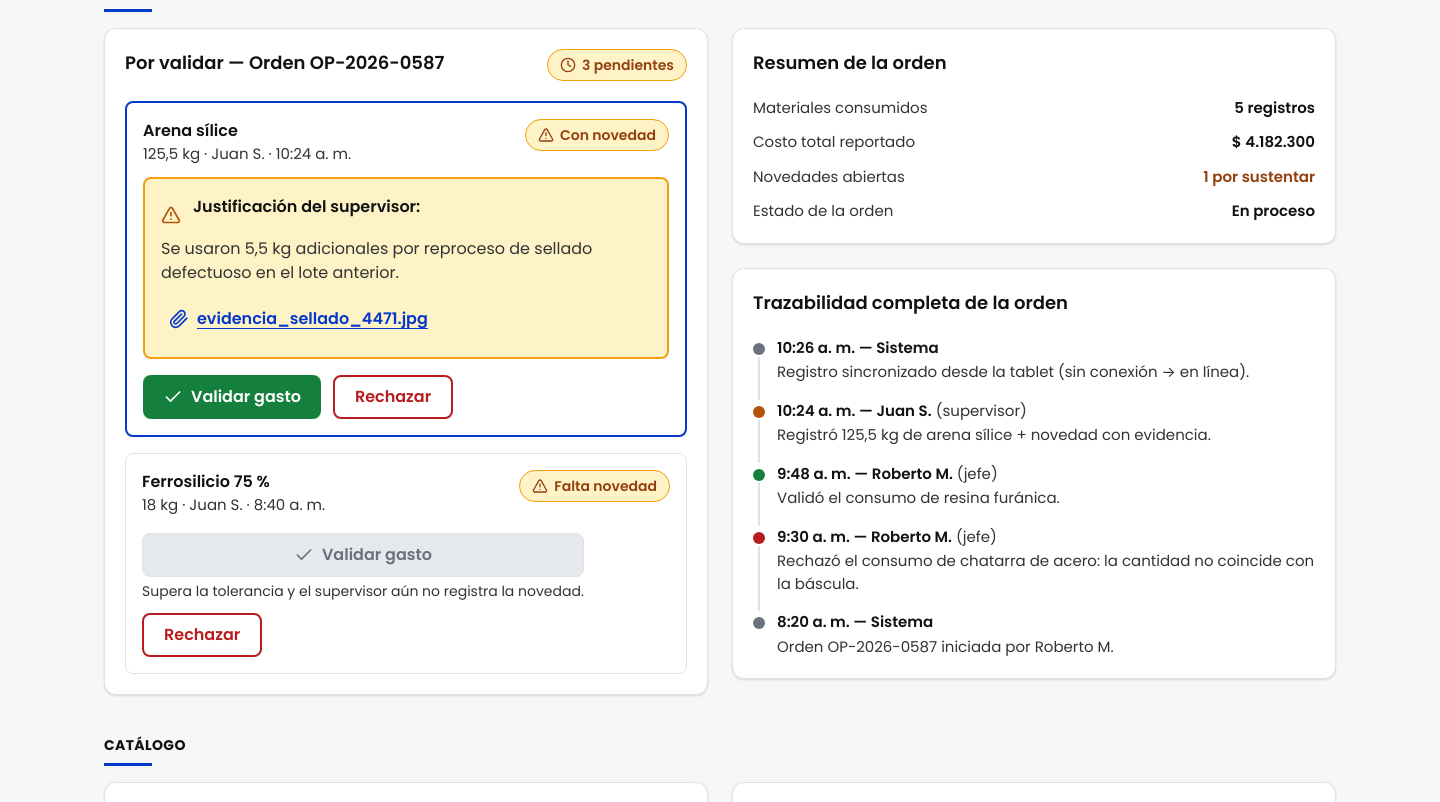
Scenario: Página /diseno › rechazar exige motivo y muestra un toast al confirmar
The width and height of the screenshot is (1440, 802).
(page scrolled)
Click the button "Rechazar" below "125,5 kg · Juan S. · 10:24 a. m." at (393, 397), box [333,375,453,419]
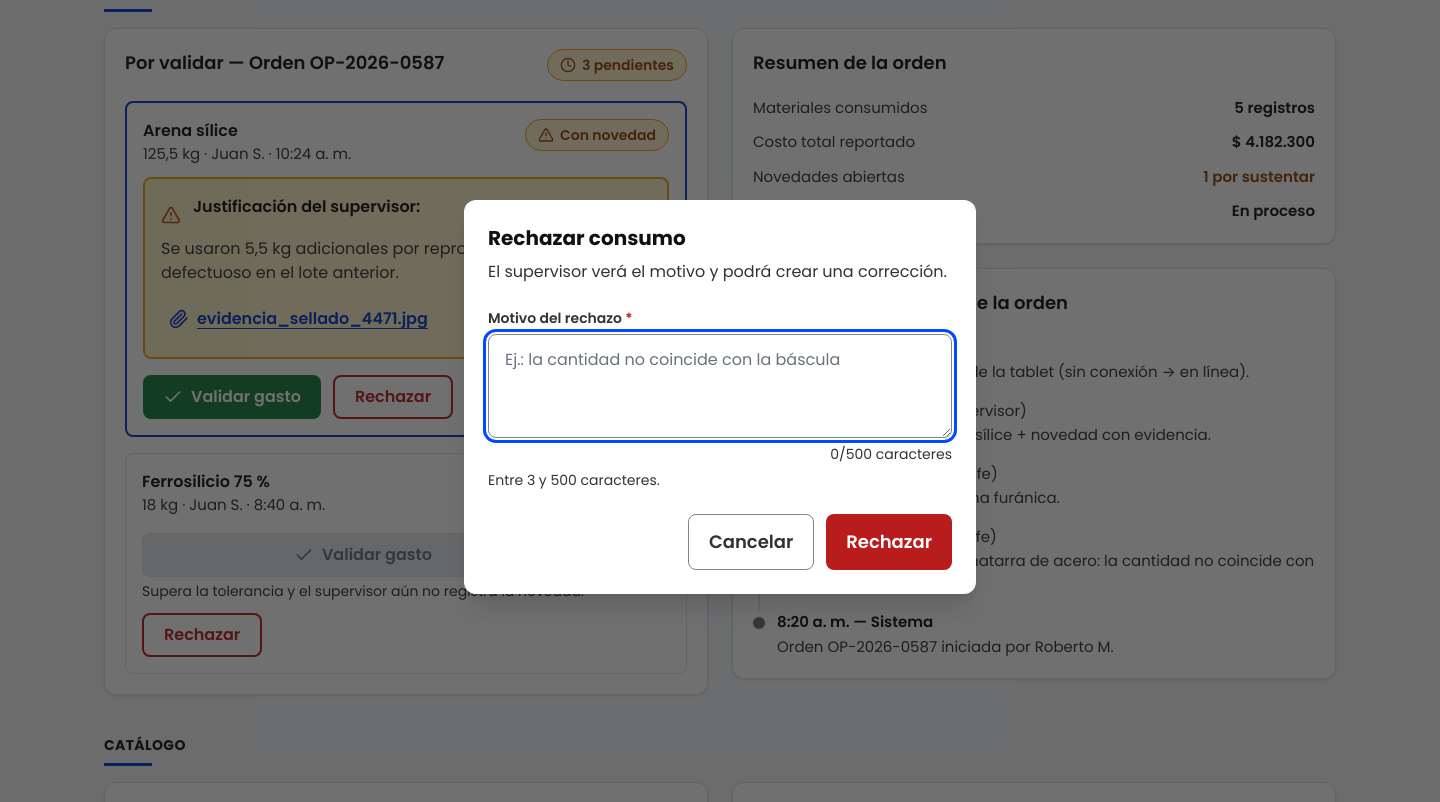
Type "No coincide con la báscula" into the text box labelled "Motivo del rechazo *" at (720, 386), box [488,334,952,438]
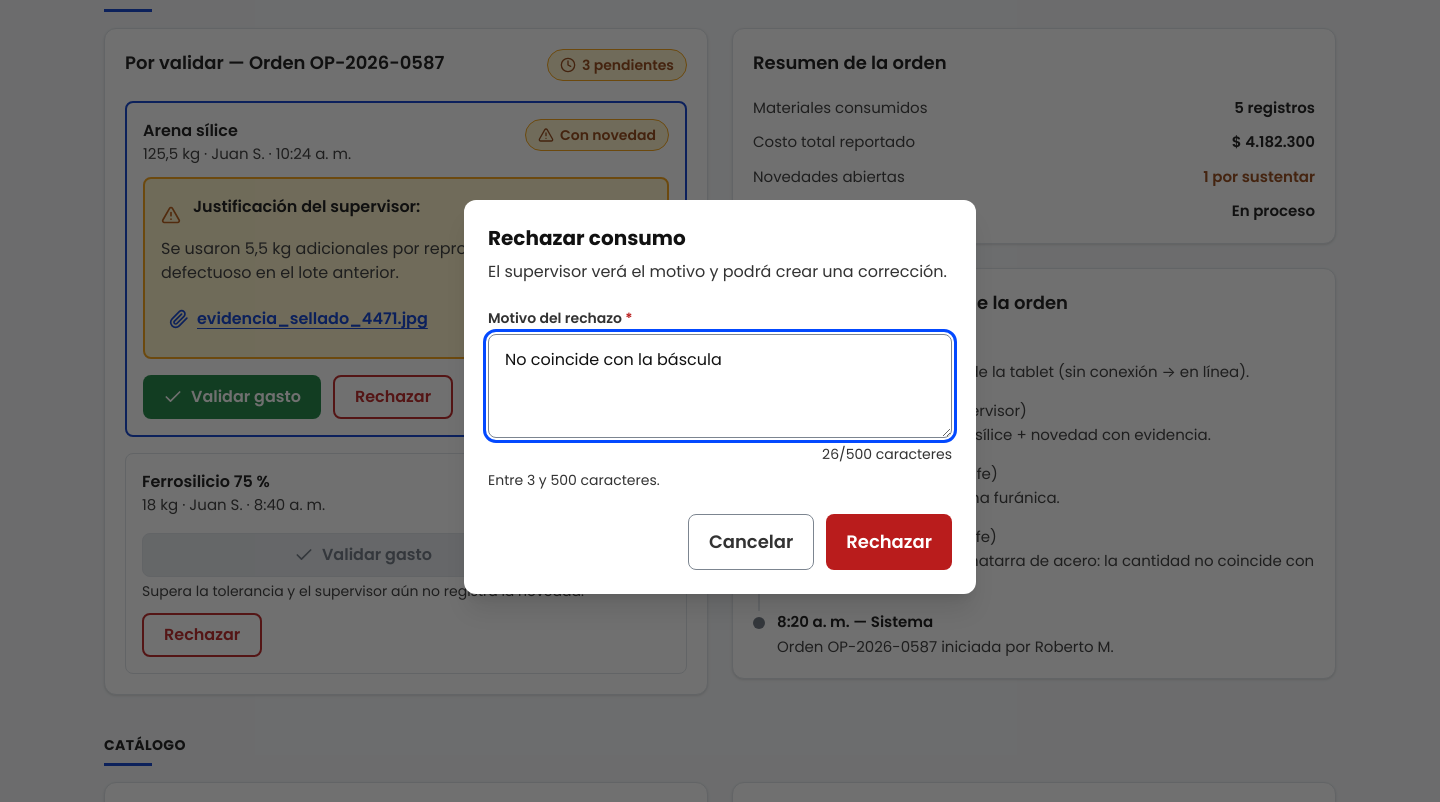
Click the button "Rechazar" at (889, 542), box [826,514,952,570]
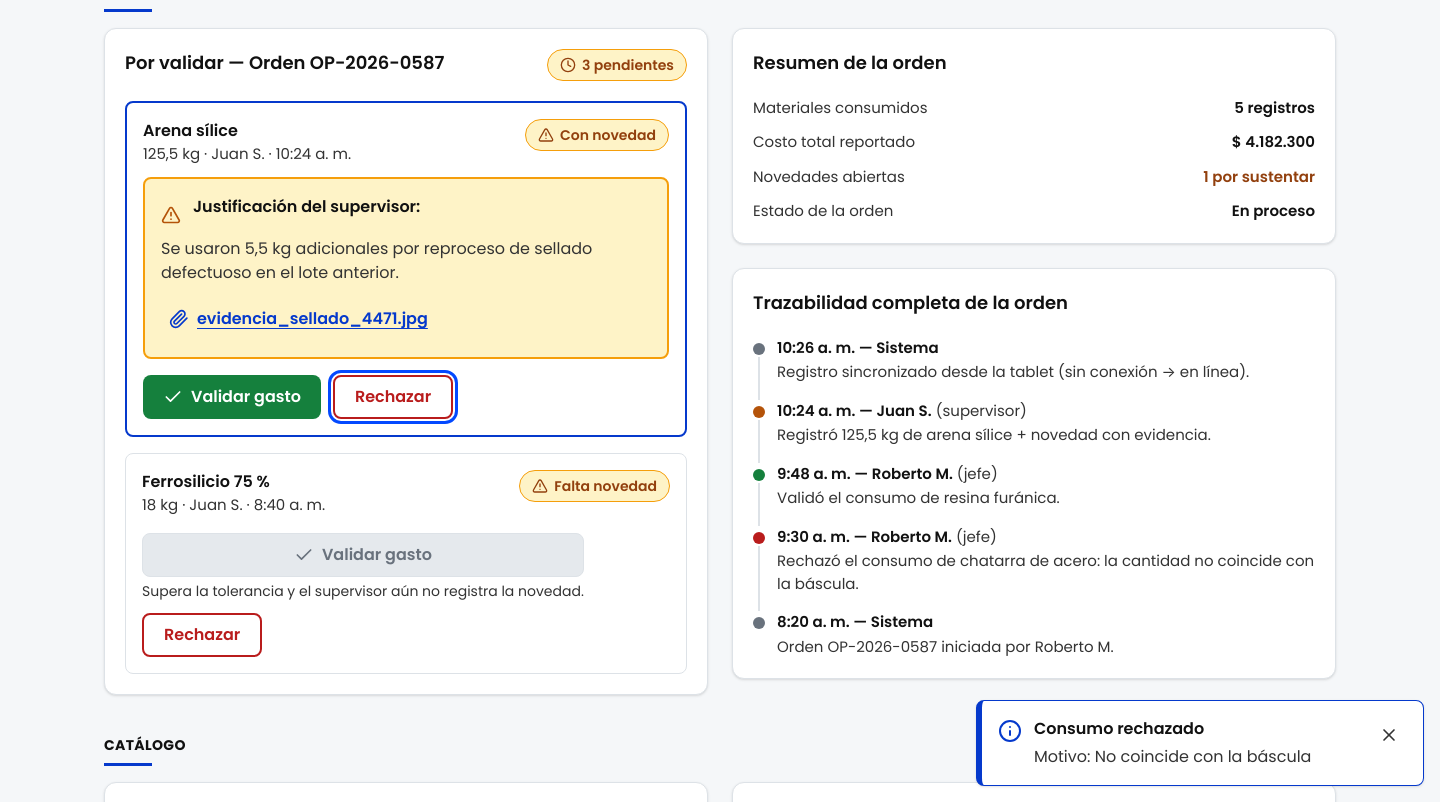
Now the dialog is gone
Now the text "Motivo: No coincide con la báscula" is shown, box [1034,745,1355,769]
